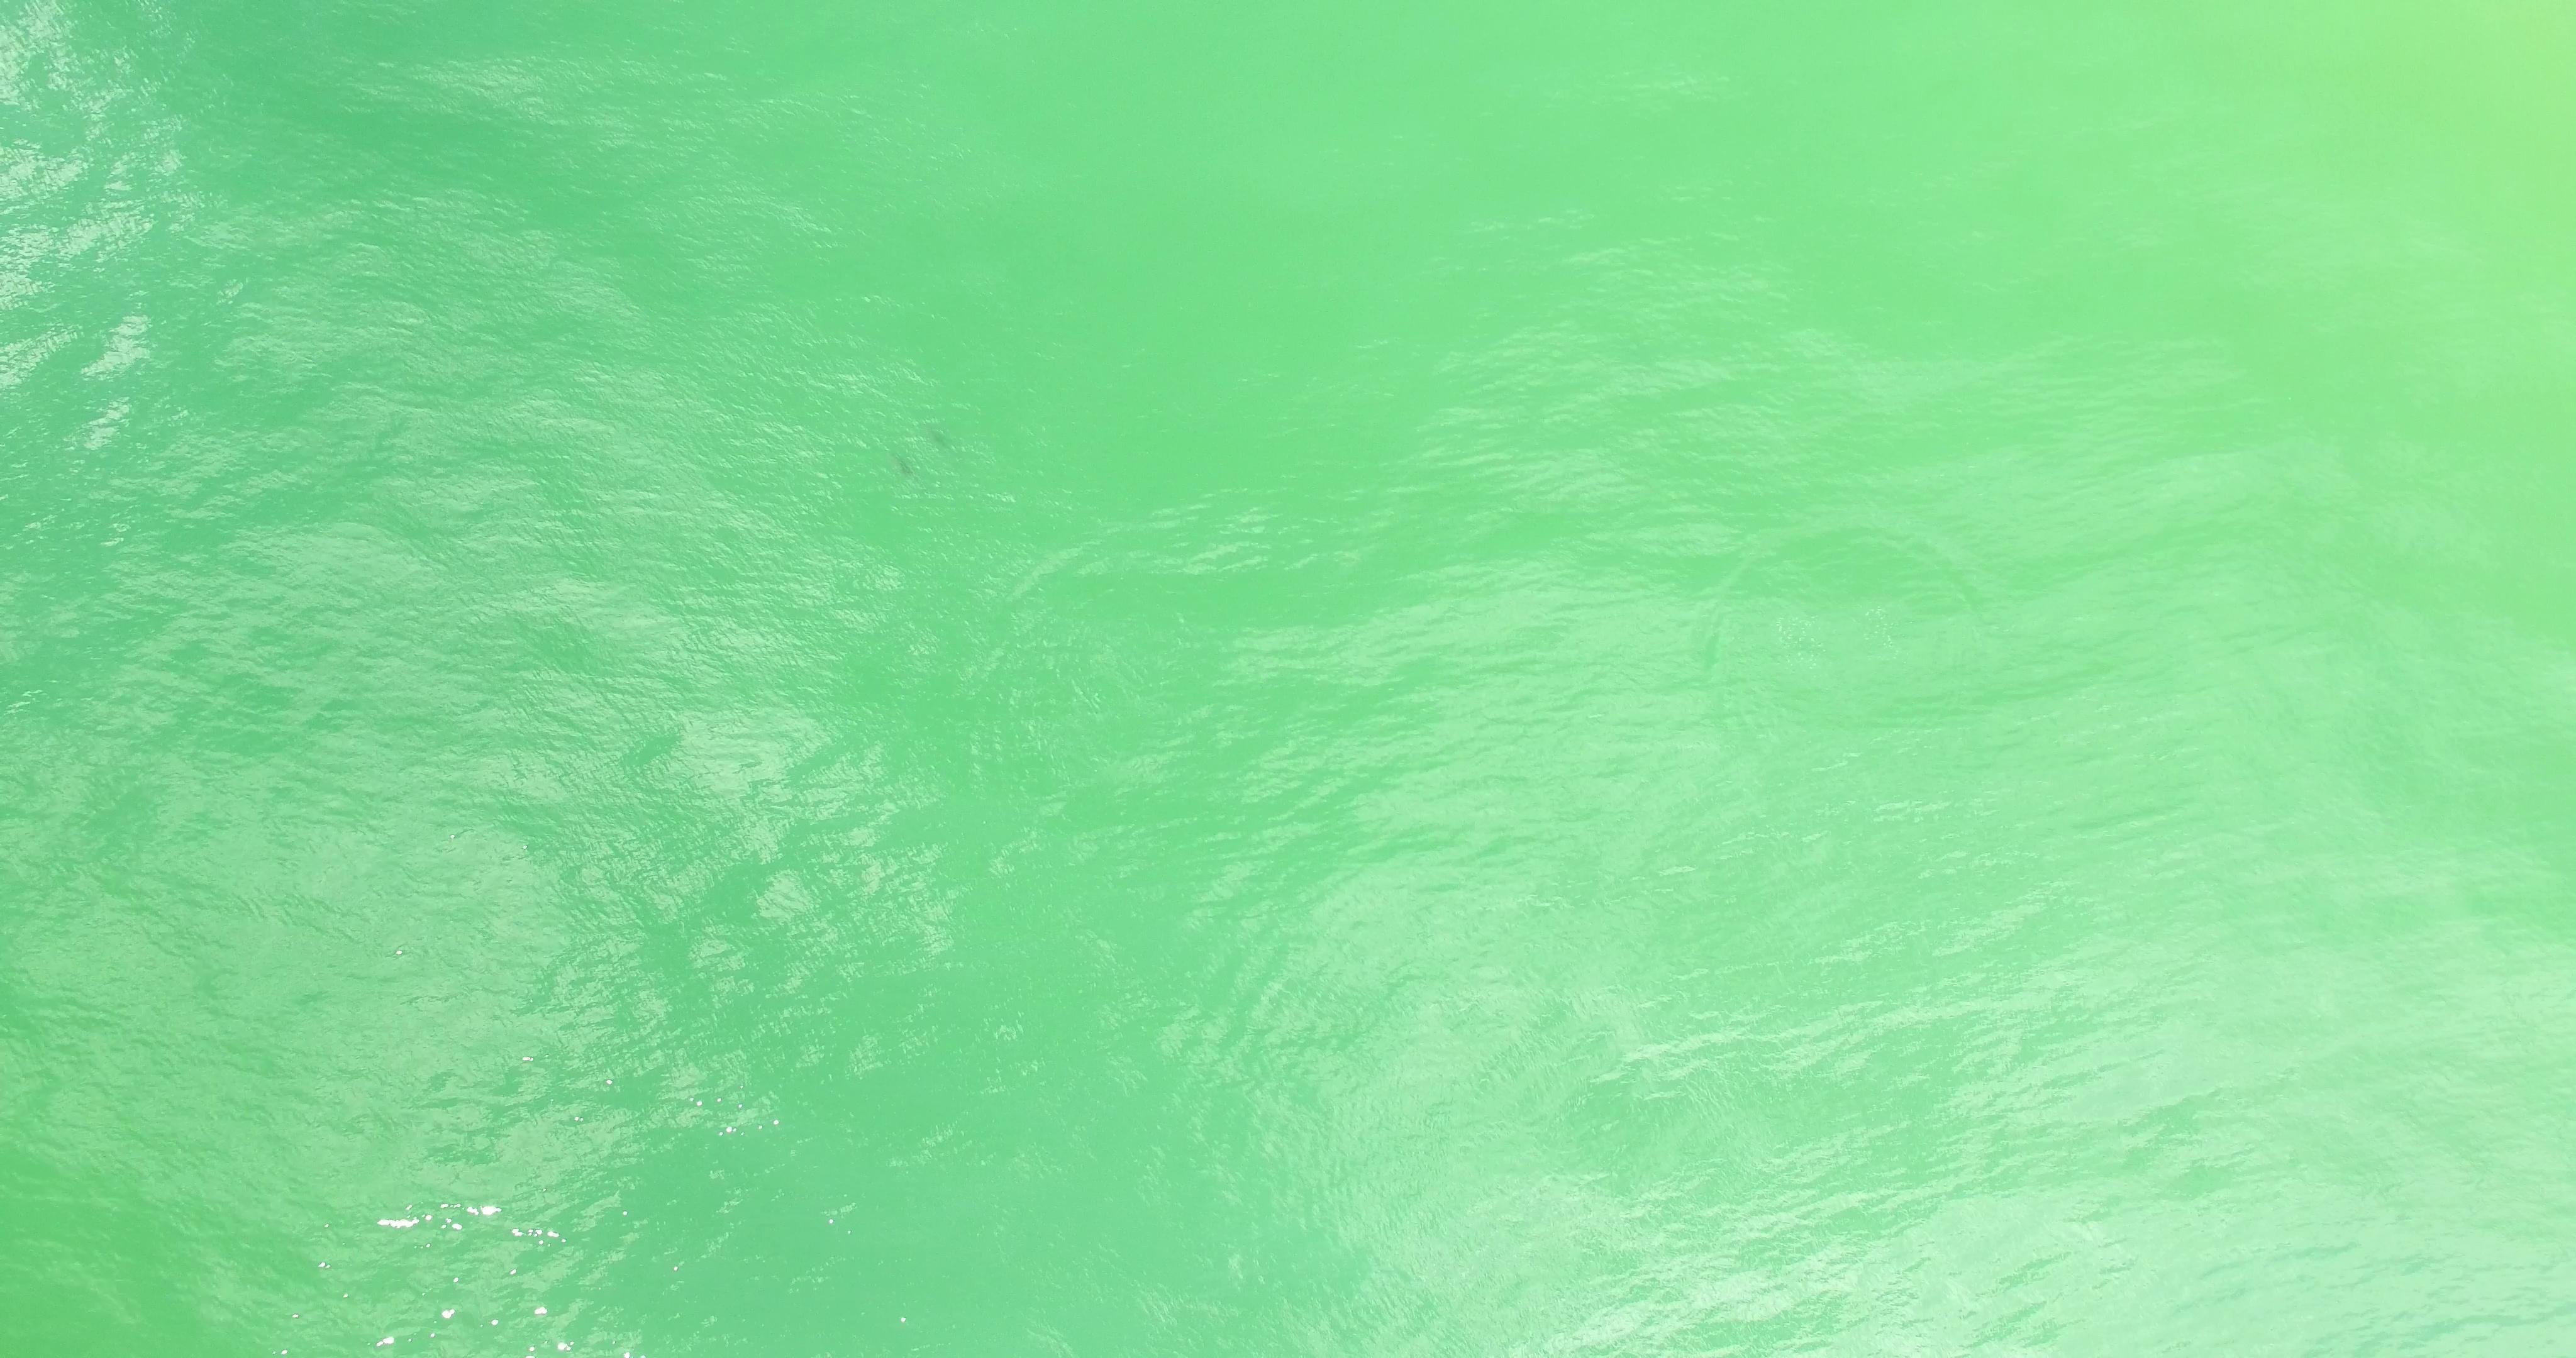dolphin: (920, 421, 961, 453), (884, 446, 920, 480)
